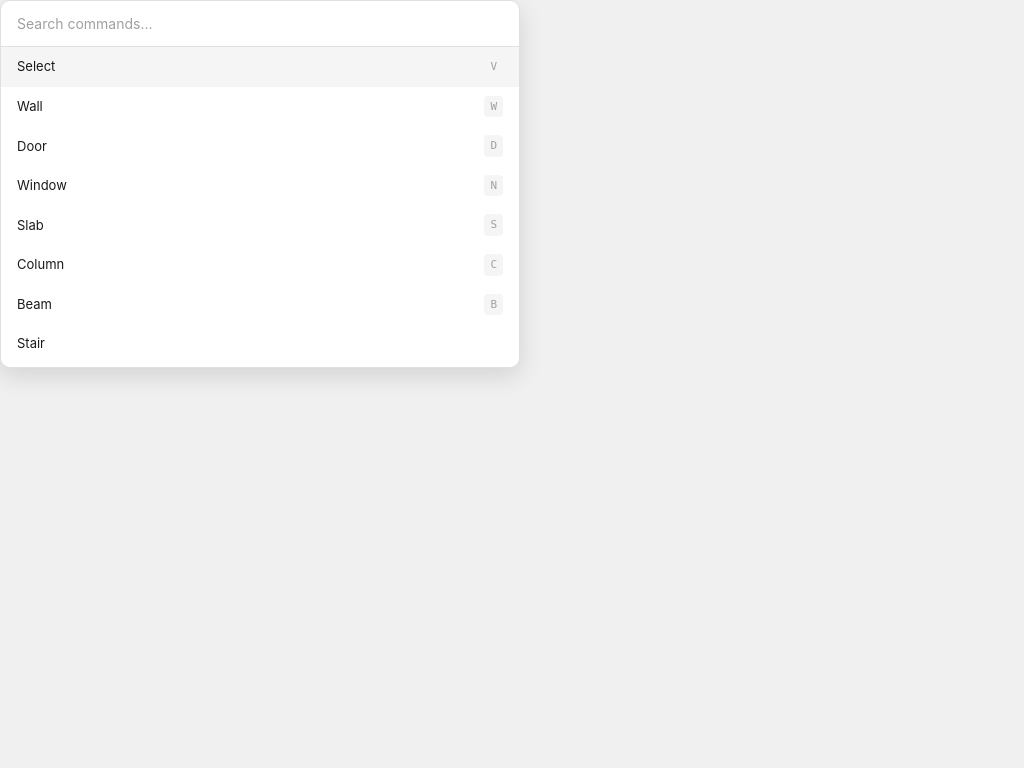
Test case: T-UI-002: CommandPalette › hides non-matching commands when filtering
Type "zzz_nonexistent" into the dropdown.
click(260, 24); type("zzz_nonexistent")  # box [1,1,519,47]
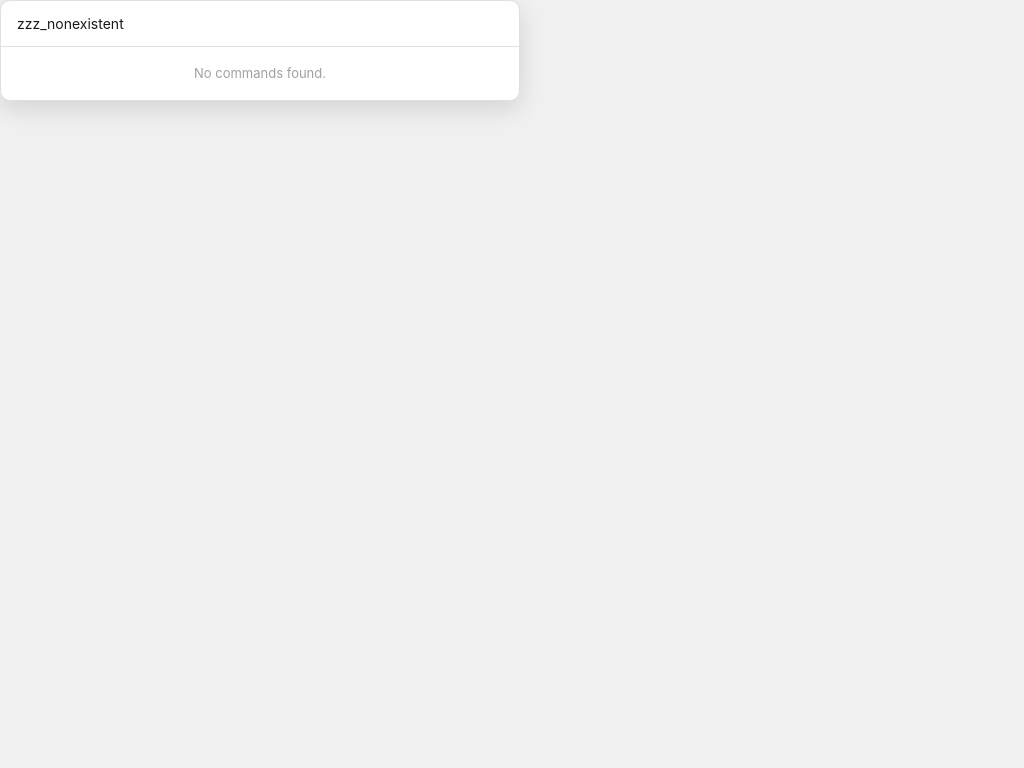
Now the option "Wall" is gone
